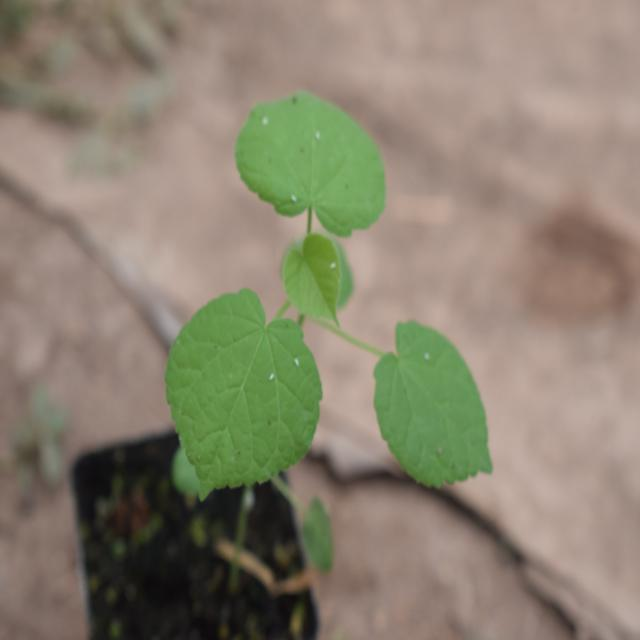abutilon theophrasti: (132, 70, 486, 524)
